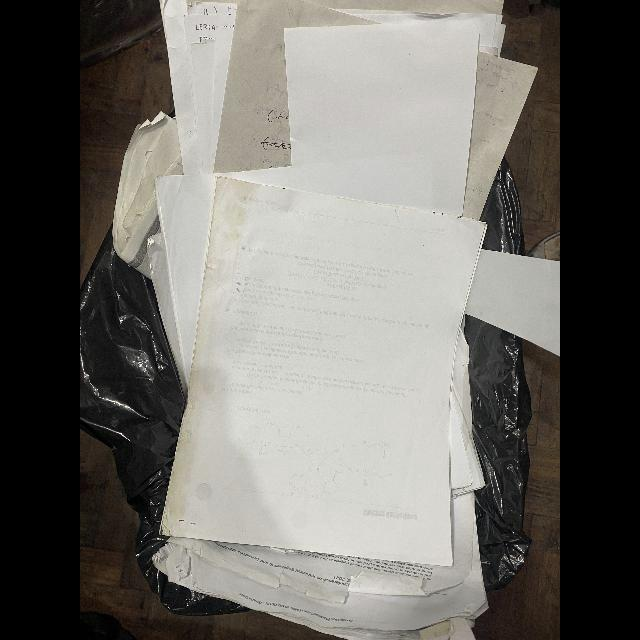paper: (161, 177, 487, 569), (160, 0, 537, 219), (151, 494, 489, 640), (284, 21, 479, 217), (112, 112, 184, 280), (465, 249, 560, 358), (449, 330, 485, 497)
